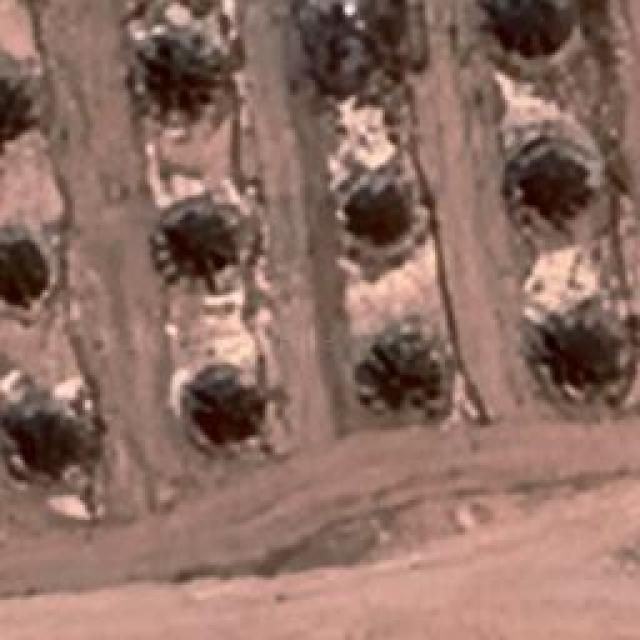PalmTree: (348, 322, 450, 436), (546, 306, 634, 396), (311, 8, 384, 88), (520, 146, 598, 219), (5, 402, 75, 482), (346, 180, 416, 255), (162, 204, 235, 274), (195, 375, 268, 440), (138, 38, 204, 102), (504, 0, 574, 60), (0, 236, 50, 316), (0, 82, 38, 156)
